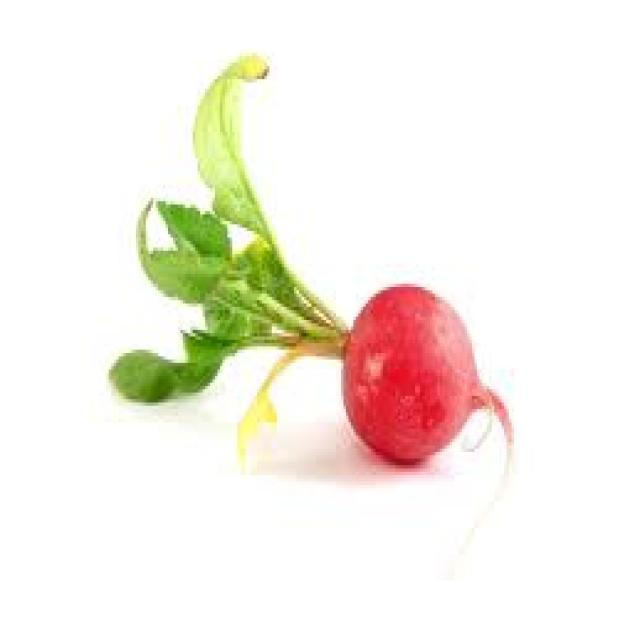radish: (94, 27, 568, 514)
